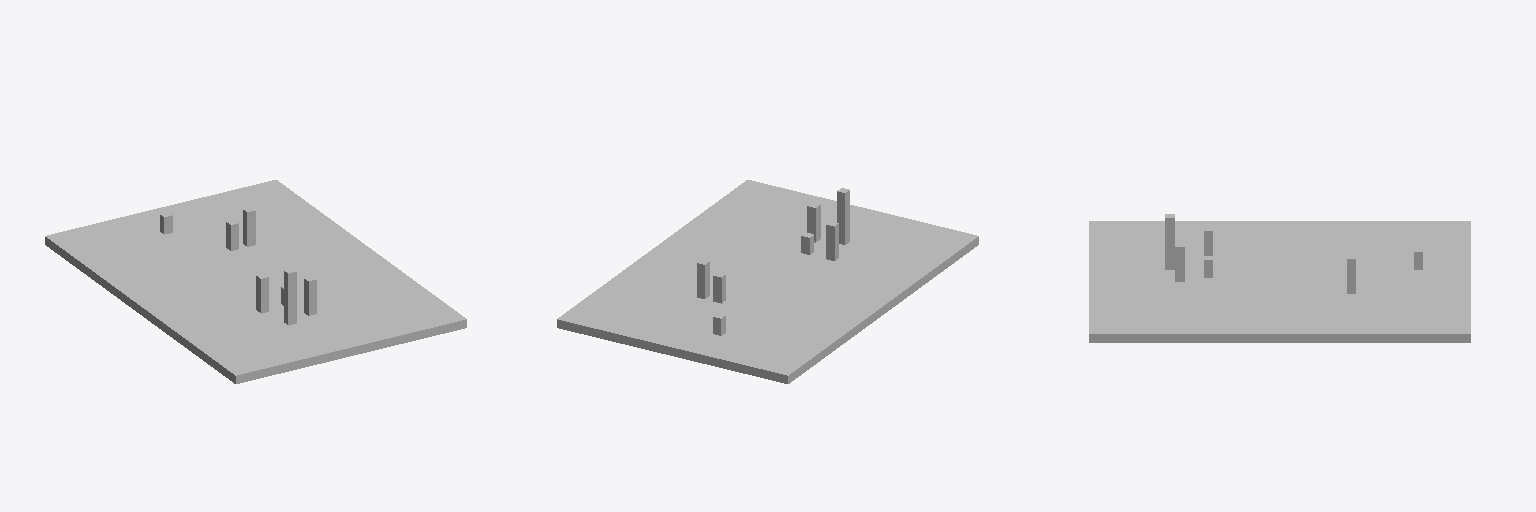
File: grass5.obj
3 views of the same model, side by side, from view 1: azimuth 30°, elevation 25°; view 2: azimuth 150°, elevation 25°; view 3: azimuth 270°, elevation 25° (orthographic).
Visible parts, largest first — view 1: object 1; view 2: object 1; view 3: object 1.
Boxes of the visible parts, box(x1,y1,x2,y2) form: object 1: box(45, 180, 466, 383); object 1: box(557, 180, 978, 383); object 1: box(1089, 214, 1470, 342).
Bounding box in the file's own units: 2.8 × 0.7 × 4.